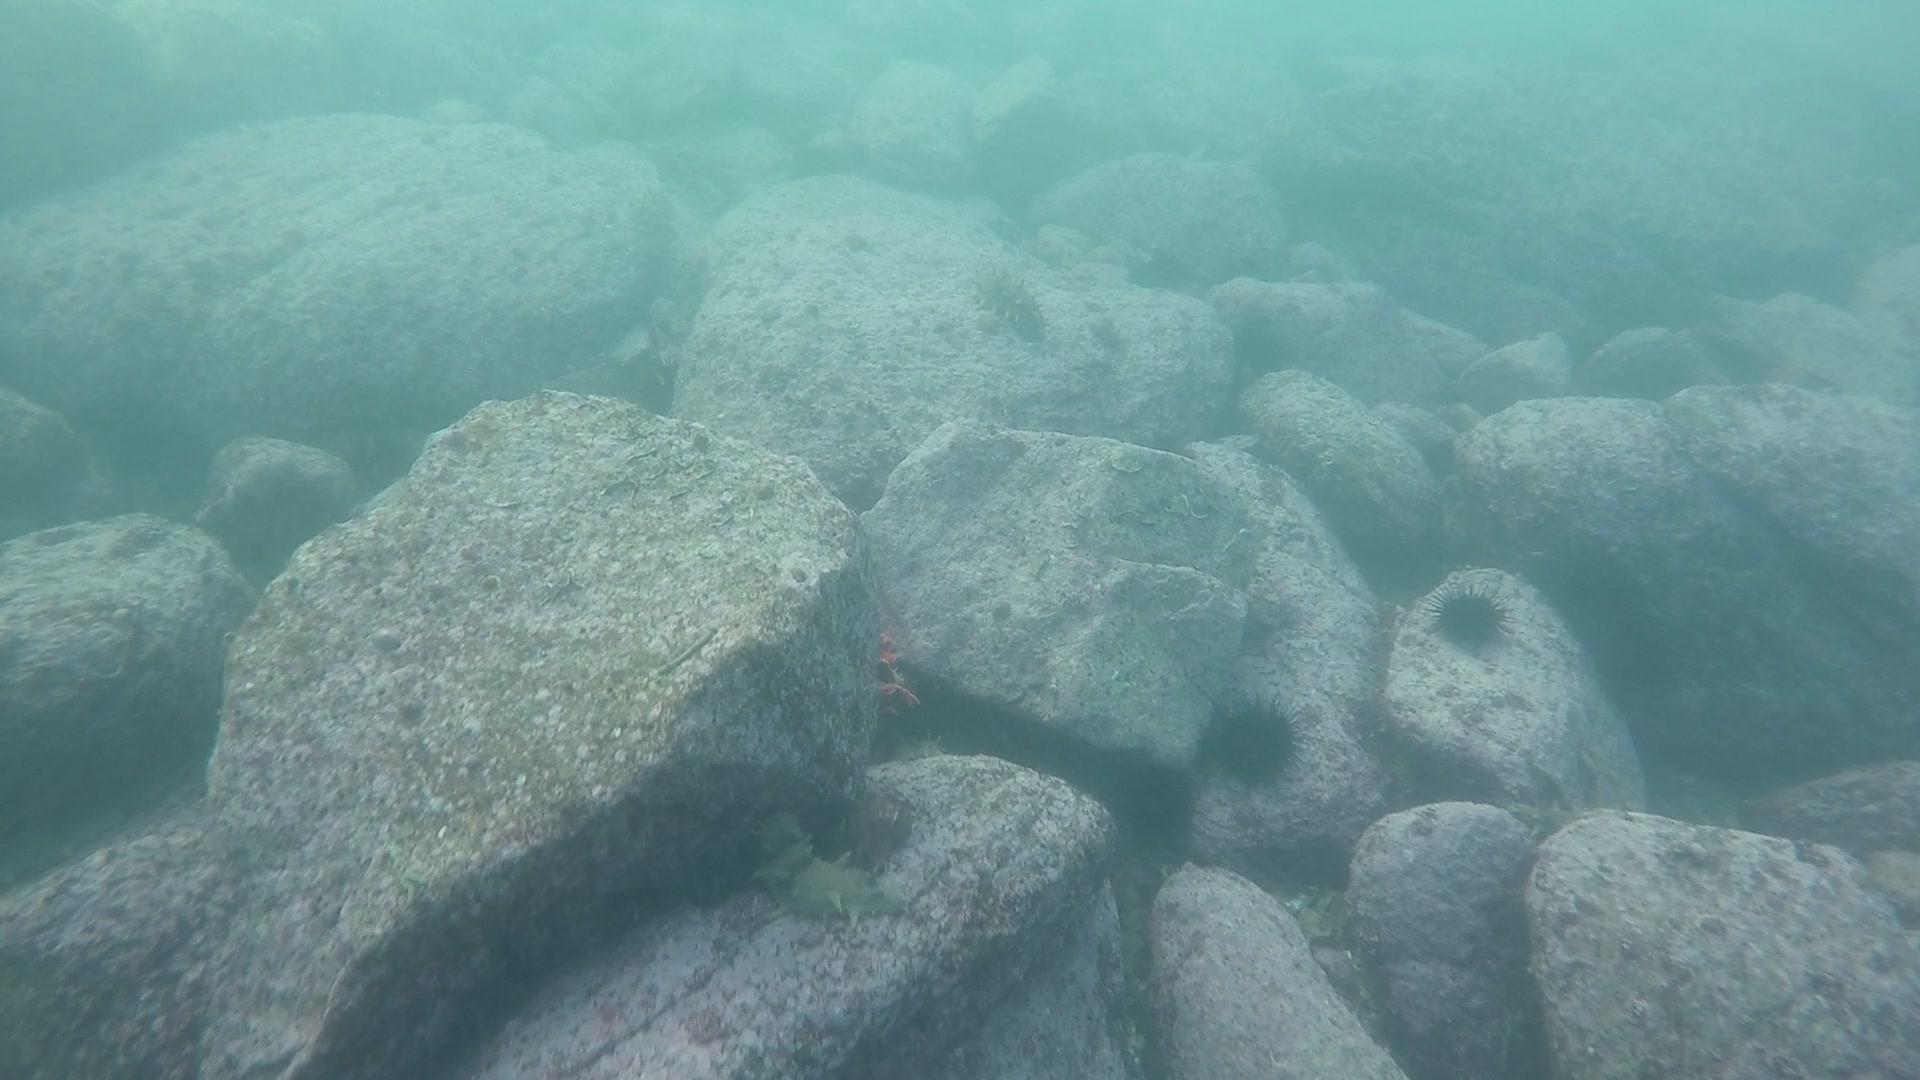echinus: (1197, 688, 1319, 793), (1425, 578, 1528, 661)
holothurian: (748, 815, 922, 942), (963, 262, 1062, 351), (1112, 887, 1160, 1004), (1502, 793, 1596, 840), (887, 735, 960, 765)
